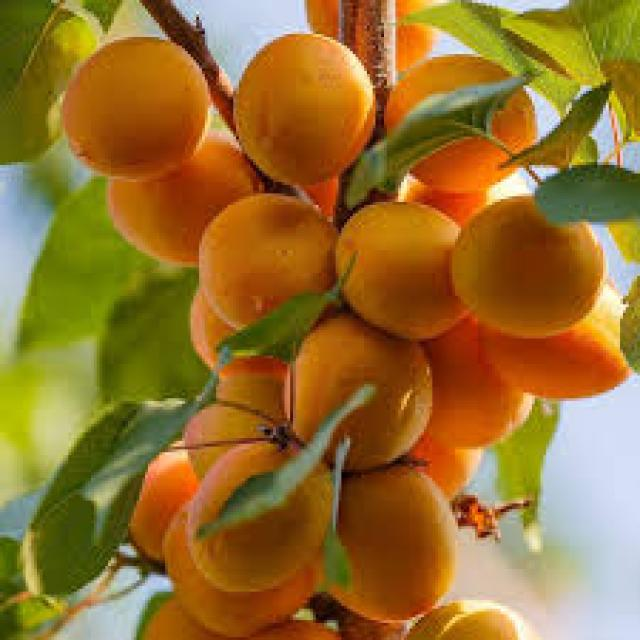kayisi: (73, 53, 583, 640)
